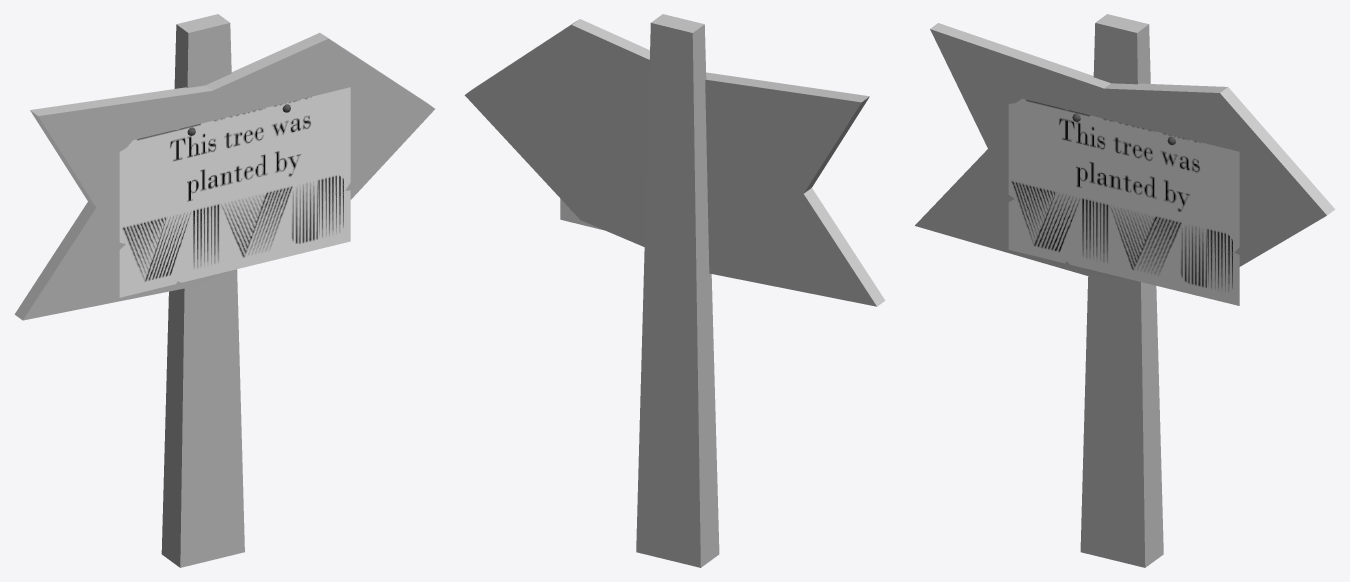
Rendered from planted by vivo.fbx.
The picture shows the model from 3 angles, left to right: view 1: azimuth 30°, elevation 25°; view 2: azimuth 150°, elevation 25°; view 3: azimuth 330°, elevation 25°; orthographic projection.
Visible parts, largest first — view 1: sign3__0.003, planted by vivo; view 2: sign3__0.003; view 3: sign3__0.003, planted by vivo.
Part boxes in pixels (box(x1,y1,x2,y2)): sign3__0.003: box(14, 14, 434, 567); planted by vivo: box(119, 87, 350, 297); sign3__0.003: box(464, 14, 885, 567); sign3__0.003: box(915, 14, 1335, 567); planted by vivo: box(1008, 98, 1239, 305).
Bounding box in the file's own units: 140 × 172 × 16.54.
